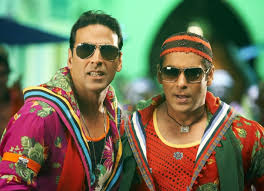Bad: (7, 11, 264, 191)
